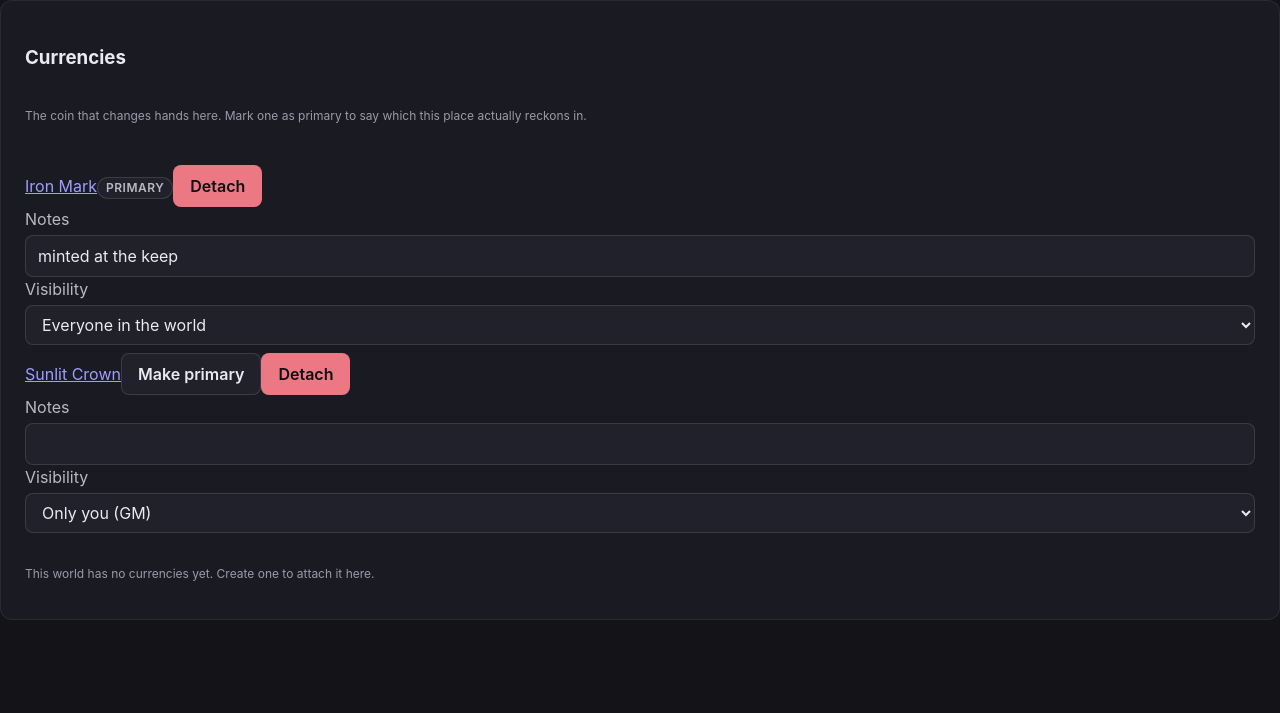
Test case: editing a row › surfaces a failed write on the row it belongs to
The width and height of the screenshot is (1280, 713).
Click the button with aria-label "Detach Iron Mark". click: (218, 186)
box: [173,164,262,206]
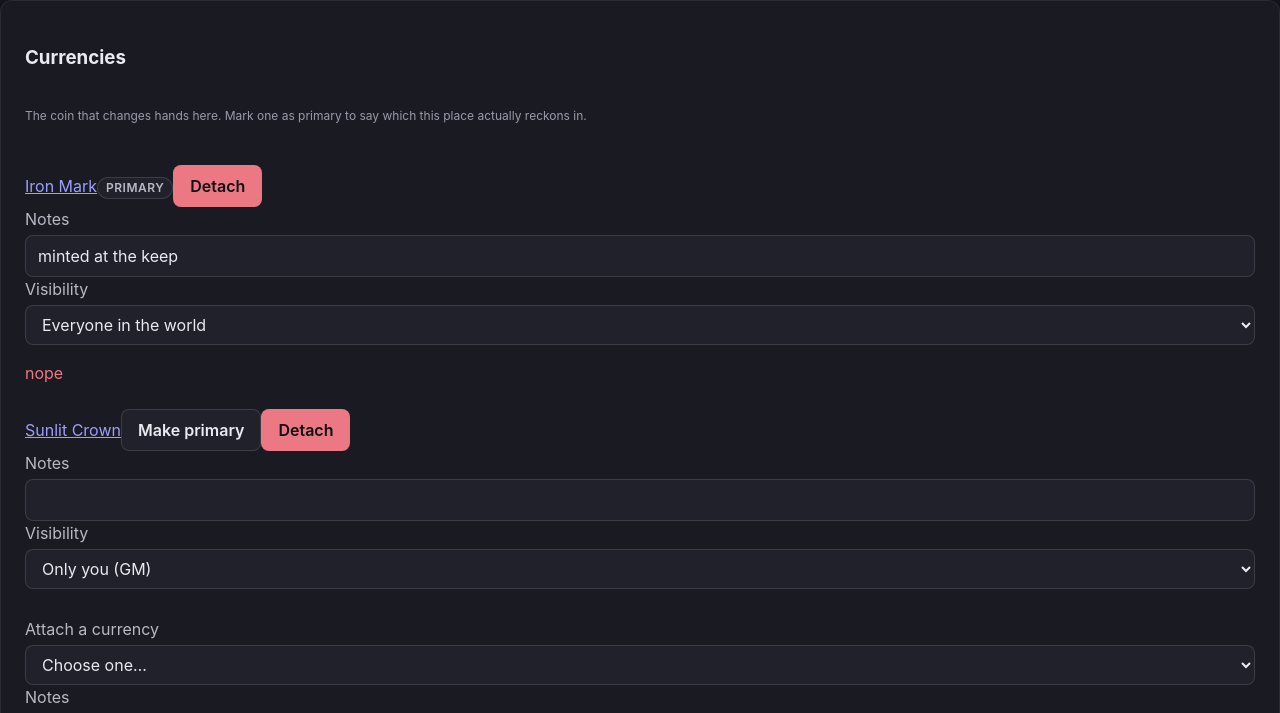
Result: the text "nope" is shown at [25,362,63,382]
